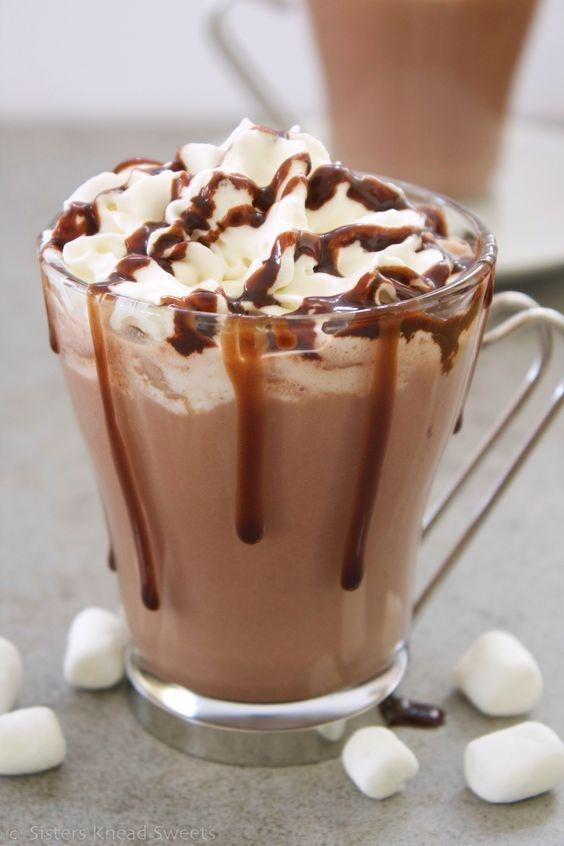glass-mug: (34, 145, 564, 763)
